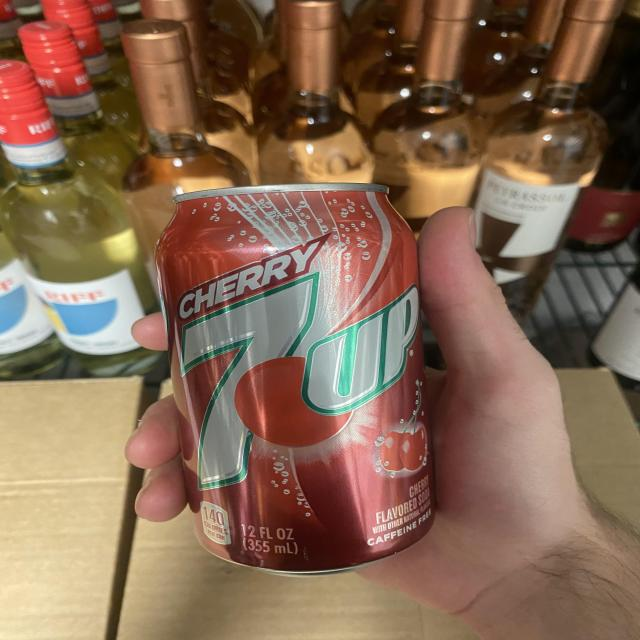can: (158, 183, 438, 578)
